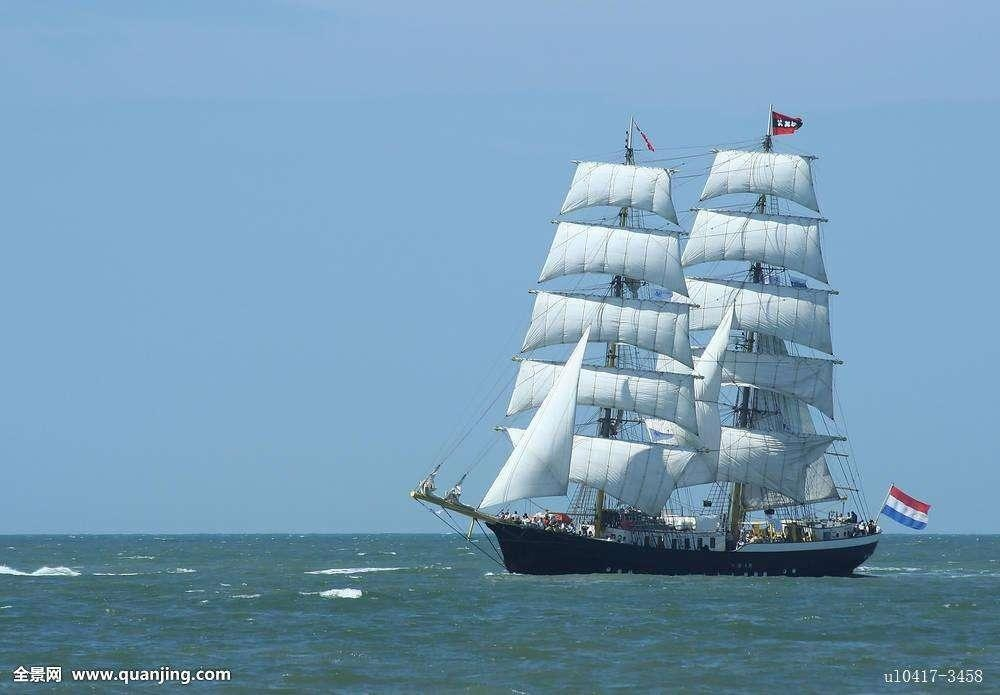fanchuan: (411, 104, 935, 580)
